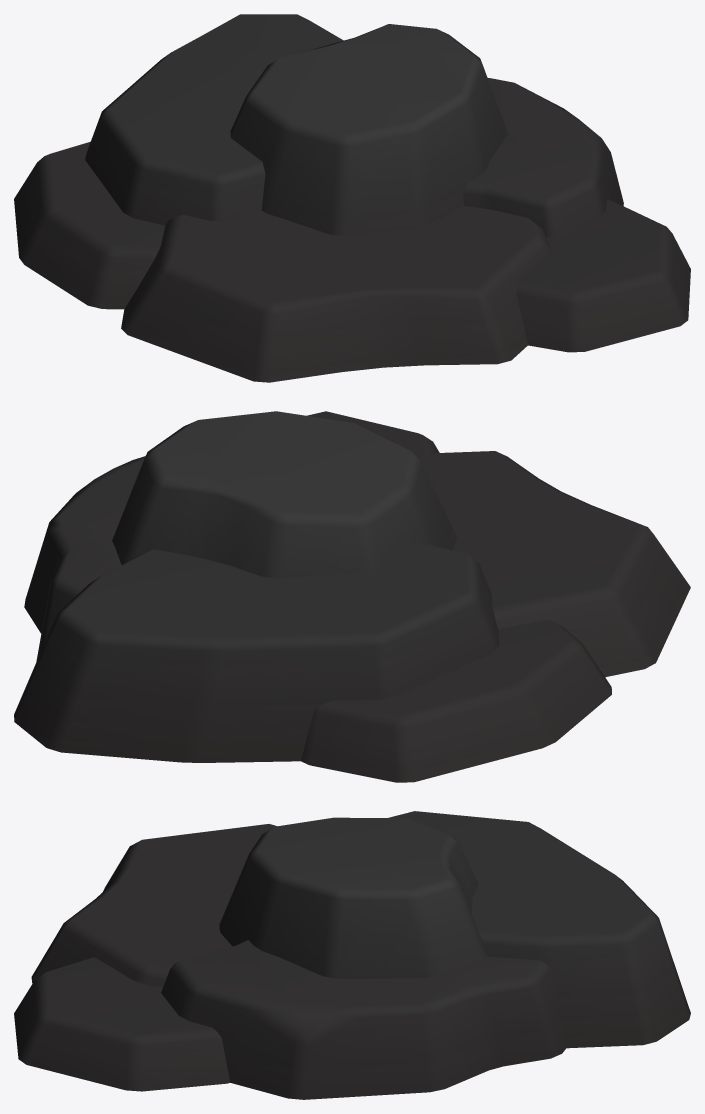
File: inferno-rock-mid-004.glb
3 renders of one model, top to bottom at view 1: azimuth 30°, elevation 25°; view 2: azimuth 150°, elevation 25°; view 3: azimuth 270°, elevation 25°, orthographic. The views are drawn at different scales.
Visible parts, largest first — view 1: RockMid_004; view 2: RockMid_004; view 3: RockMid_004.
Part boxes in pixels (x1,y1,x2,y2): RockMid_004: [14, 14, 690, 382]; RockMid_004: [14, 411, 690, 782]; RockMid_004: [14, 811, 690, 1099].
Bounding box in the file's own units: 9.33 × 2.73 × 11.04.
1 material, 1 textured.
